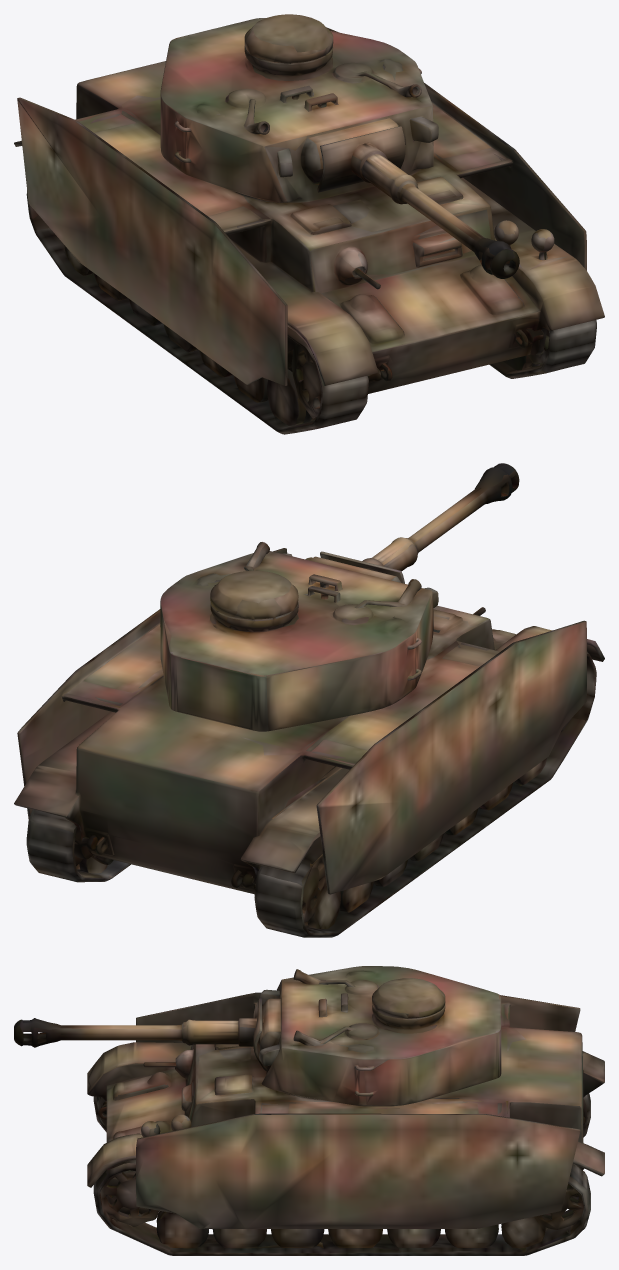
File: pz4h_opt.glb
3 renders of one model, top to bottom at view 1: azimuth 30°, elevation 25°; view 2: azimuth 150°, elevation 25°; view 3: azimuth 270°, elevation 25°, orthographic. The views are drawn at different scales.
Parts seen in each view (by area): view 1: node_0; view 2: node_0; view 3: node_0.
Part boxes in pixels (x1,y1,x2,y2): node_0: (14, 14, 604, 434); node_0: (14, 463, 604, 937); node_0: (14, 966, 604, 1255).
Size of the model in its own units: 0.5336 by 0.4452 by 1.09.
1 material, 1 textured.
